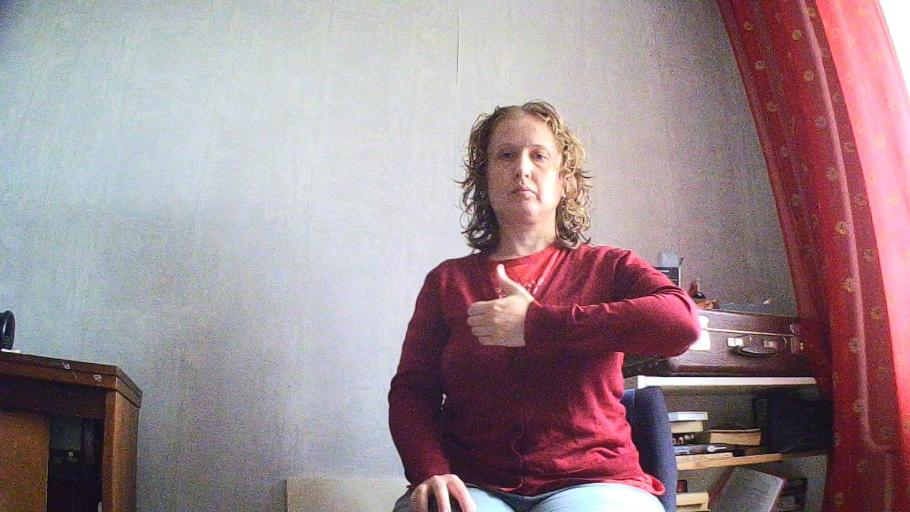like: (464, 260, 536, 349)
no_gesture: (403, 471, 477, 511)
